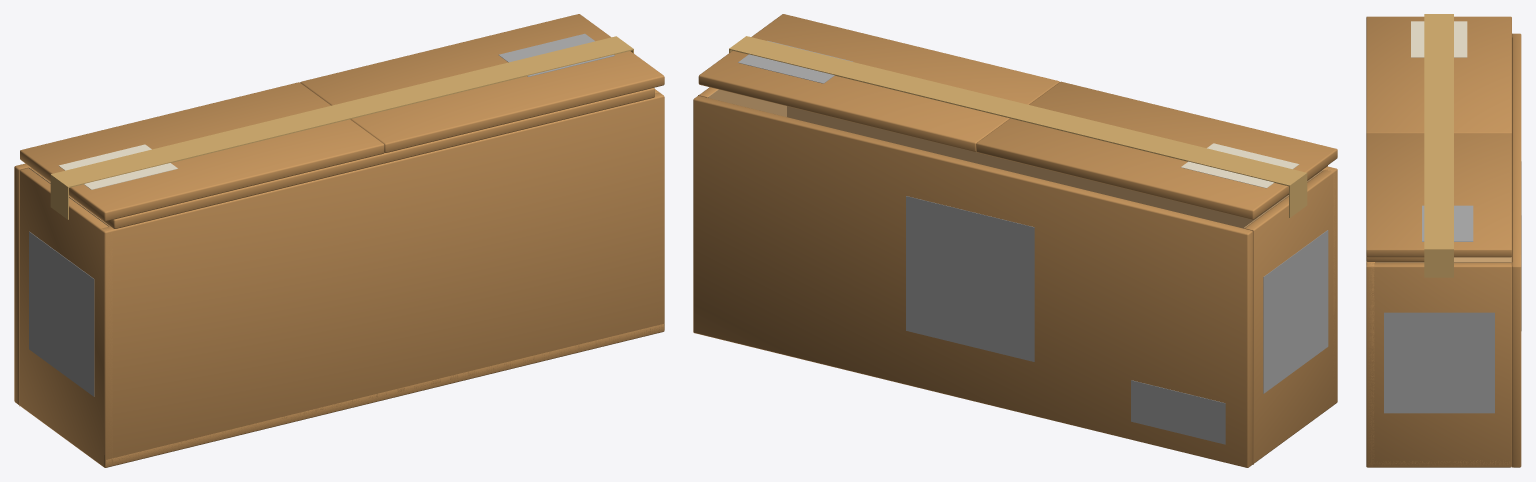
3 views of the same model, side by side, from view 1: azimuth 30°, elevation 25°; view 2: azimuth 150°, elevation 25°; view 3: azimuth 270°, elevation 25° (orthographic). The views are drawn at different scales.
Parts seen in each view (by area): view 1: box_5x2, FlapR, FlapL, Tape, FlapB, Front; view 2: Front, box_5x2, FlapR, FlapL, Tape; view 3: box_5x2, FlapL, FlapR, Tape, Front, FlapB.
Boxes of the visible parts, box(x1,y1,x2,y2) form: box_5x2: box(19, 89, 664, 467); FlapR: box(20, 82, 384, 221); FlapL: box(300, 14, 664, 152); Tape: box(50, 36, 633, 219); FlapB: box(74, 88, 654, 228); Front: box(14, 163, 107, 404); Front: box(693, 96, 1252, 467); box_5x2: box(698, 87, 1337, 464); FlapR: box(976, 81, 1337, 219); FlapL: box(698, 14, 1059, 151); Tape: box(729, 36, 1307, 217); box_5x2: box(1366, 33, 1512, 467); FlapL: box(1366, 133, 1511, 257); FlapR: box(1366, 16, 1511, 133); Tape: box(1424, 14, 1453, 277); Front: box(1512, 33, 1521, 467); FlapB: box(1366, 257, 1424, 261).
Bounding box in the file's own units: 1.31 × 0.5685 × 0.3649.
